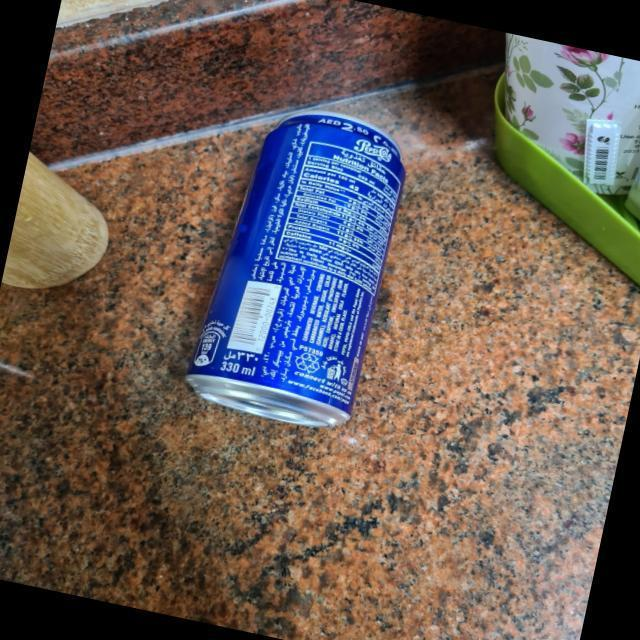can: (164, 85, 430, 447)
